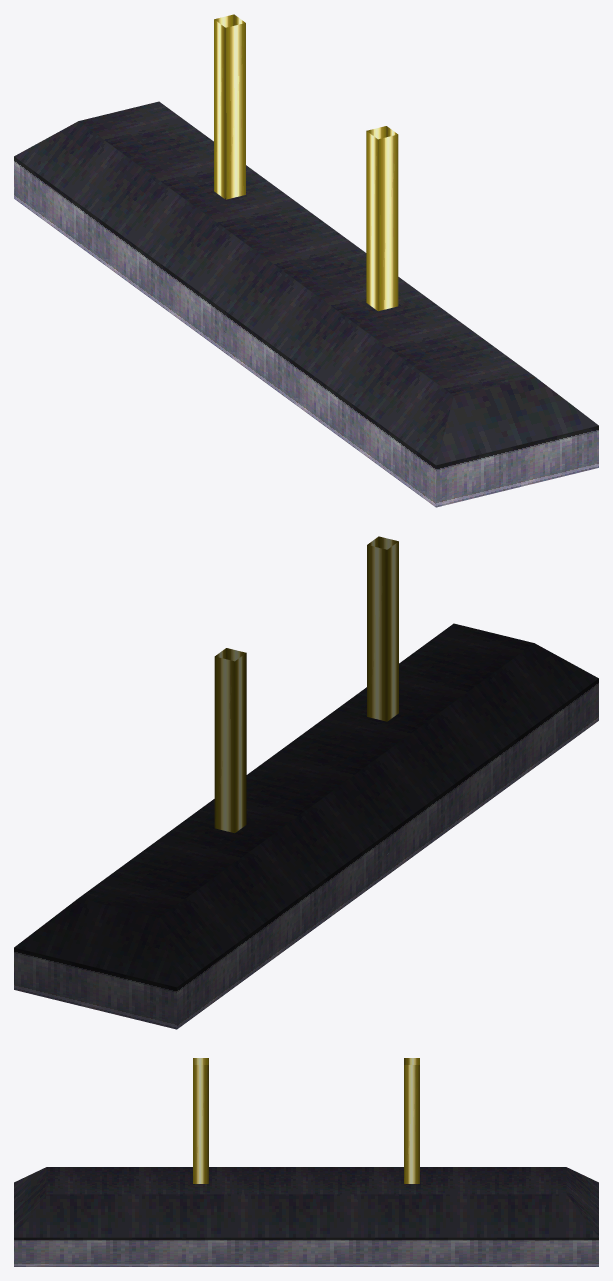
The model's file is Pdoor_azt_desk_topZ.obj.
3 renders of one model, top to bottom at view 1: azimuth 30°, elevation 25°; view 2: azimuth 150°, elevation 25°; view 3: azimuth 270°, elevation 25°, orthographic. The views are drawn at different scales.
Size of the model in its own units: 234 by 352 by 1050.
Materials: 3 (3 with a texture image).
